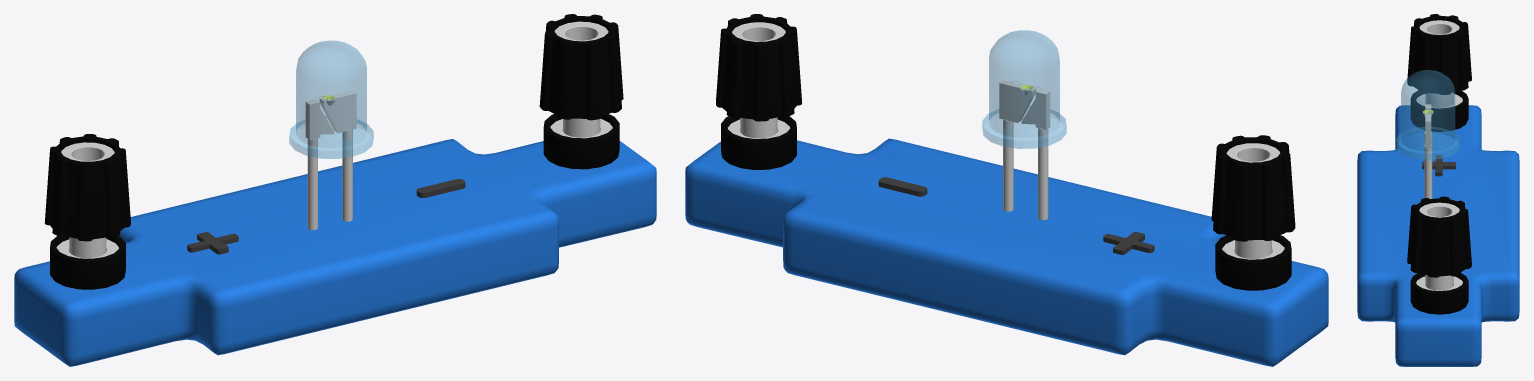
Rendered from LED.fbx.
3 renders of one model, left to right at view 1: azimuth 30°, elevation 25°; view 2: azimuth 150°, elevation 25°; view 3: azimuth 270°, elevation 25°, orthographic. The views are drawn at different scales.
Visible parts, largest first — view 1: Resistor.010, Cylinder.084, Cylinder.086, Cylinder.083, Cylinder.085, Battery.004; view 2: Resistor.010, Cylinder.084, Cylinder.086, Cylinder.083, Cylinder.085, Battery.004; view 3: Resistor.010, Cylinder.084, Cylinder.086, Cylinder.083, Cylinder.085, Battery.004.
Boxes of the visible parts, x1,y1,x2,y2 form: Resistor.010: (14,139,656,366); Cylinder.084: (44,14,623,258); Cylinder.086: (289,40,373,158); Cylinder.083: (50,114,619,289); Cylinder.085: (305,90,356,230); Battery.004: (187,179,465,254); Resistor.010: (685,138,1328,366); Cylinder.084: (716,14,1295,258); Cylinder.086: (982,30,1066,148); Cylinder.083: (721,116,1291,290); Cylinder.085: (999,80,1050,219); Battery.004: (878,177,1154,254); Resistor.010: (1357,105,1519,366); Cylinder.084: (1407,14,1471,290); Cylinder.086: (1396,70,1460,159); Cylinder.083: (1410,90,1468,314); Cylinder.085: (1423,104,1433,198); Battery.004: (1422,155,1455,176).
Size of the model in its own units: 236 by 91.42 by 73.78.
